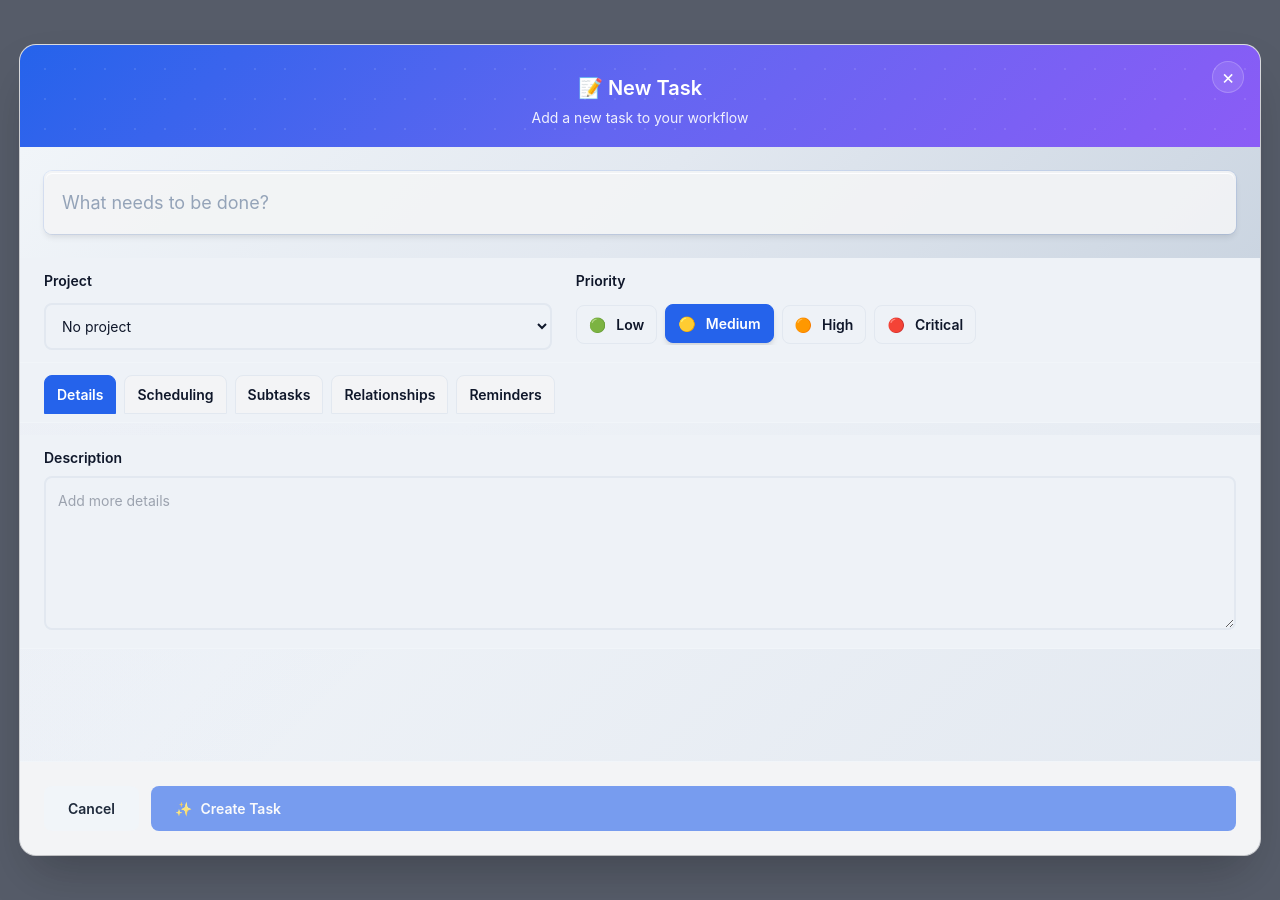
Test: TaskForm › handles reminder settings
# Open Reminders tab
What coordinates should you click on to do the following:
click the button "Reminders"
I would click on:
 (506, 394)
Its box is left=456, top=375, right=555, bottom=414.
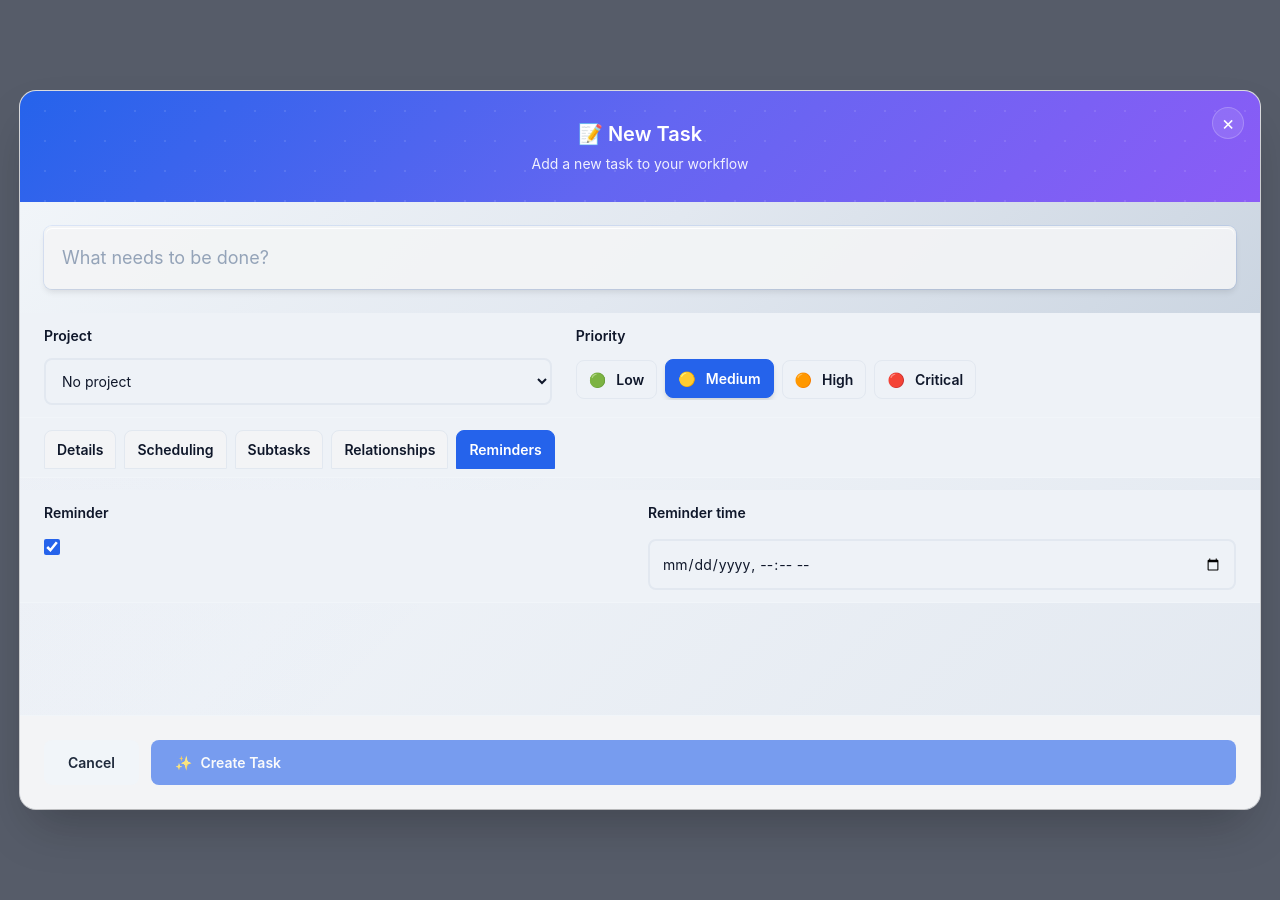
Now the checkbox labelled "Reminder" is shown, box left=44, top=539, right=60, bottom=555
Now the field labelled "Reminder time" is shown, box left=648, top=539, right=1236, bottom=590
